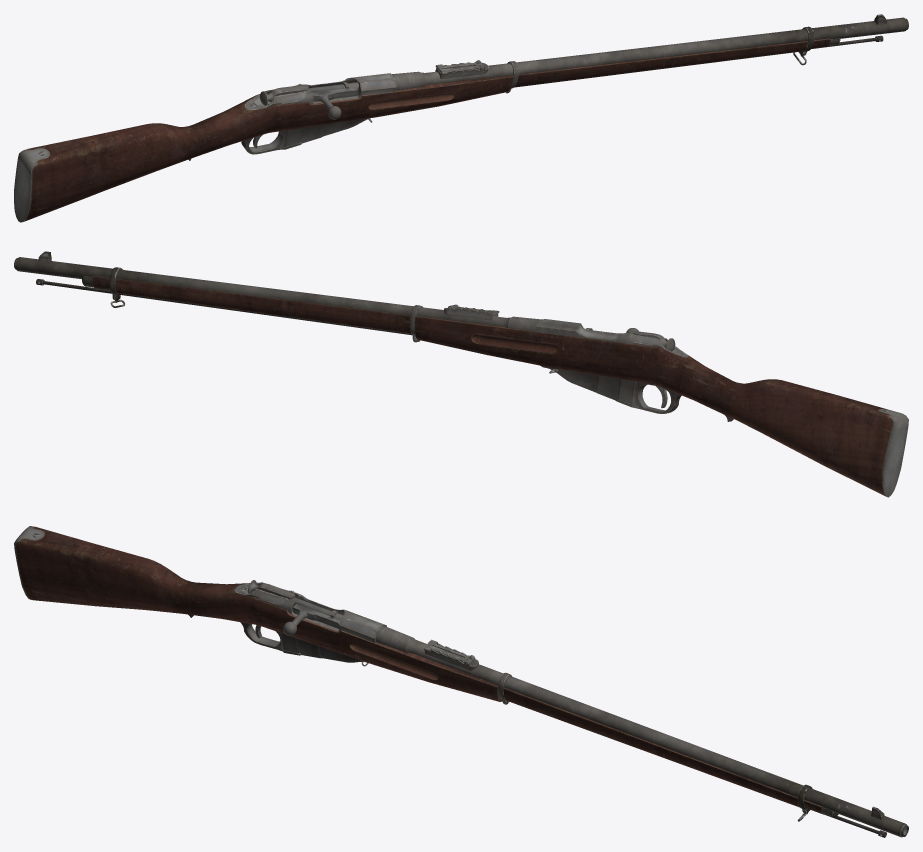
The model's file is arma_mosin.glb.
3 views of the same model, one above another, from view 1: azimuth 30°, elevation 25°; view 2: azimuth 150°, elevation 25°; view 3: azimuth 330°, elevation 25° (orthographic). The views are drawn at different scales.
Parts seen in each view (by area): view 1: body_low, barrel_low, boltframe_low, frame_low, backplate_low, bolthandle_low, bolt_low, sightbase_low; view 2: body_low, barrel_low, frame_low, boltframe_low, backplate_low, rod_low; view 3: body_low, barrel_low, boltframe_low, frame_low, bolthandle_low.
Part boxes in pixels (x1=…): body_low: x1=24, y1=38, x2=830, y2=221; barrel_low: x1=391, y1=17, x2=908, y2=90; boltframe_low: x1=244, y1=73, x2=396, y2=110; frame_low: x1=188, y1=119, x2=366, y2=160; backplate_low: x1=14, y1=148, x2=50, y2=222; bolthandle_low: x1=298, y1=84, x2=358, y2=119; bolt_low: x1=259, y1=82, x2=358, y2=105; sightbase_low: x1=435, y1=60, x2=488, y2=78; body_low: x1=92, y1=275, x2=900, y2=495; barrel_low: x1=14, y1=257, x2=541, y2=331; frame_low: x1=540, y1=365, x2=733, y2=421; boltframe_low: x1=536, y1=319, x2=688, y2=357; backplate_low: x1=878, y1=409, x2=908, y2=497; rod_low: x1=36, y1=279, x2=412, y2=335; body_low: x1=15, y1=526, x2=824, y2=814; barrel_low: x1=376, y1=626, x2=908, y2=837; boltframe_low: x1=234, y1=582, x2=386, y2=642; frame_low: x1=188, y1=614, x2=361, y2=662; bolthandle_low: x1=282, y1=596, x2=340, y2=635.
Size of the model in its own units: 16.57 by 1.84 by 1.39.
Materials: 1 (1 with a texture image).
